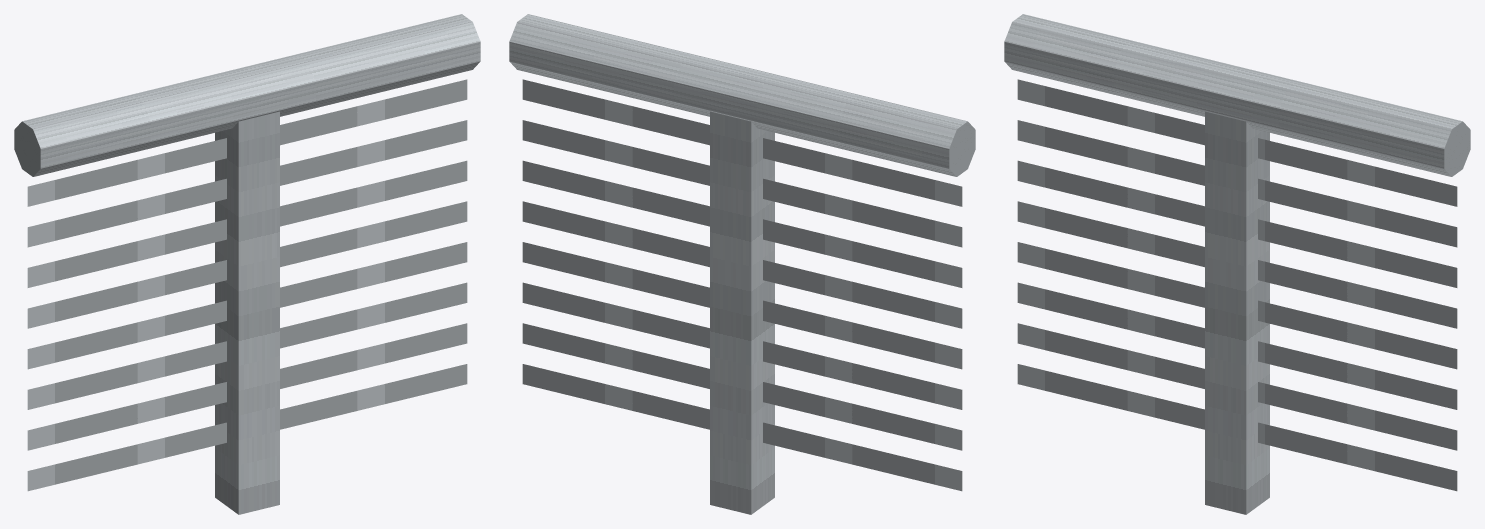
The model's file is level.obj.
3 renders of one model, left to right at view 1: azimuth 30°, elevation 25°; view 2: azimuth 150°, elevation 25°; view 3: azimuth 330°, elevation 25°, orthographic.
Visible parts, largest first — view 1: railing_cable_stainless_level; view 2: railing_cable_stainless_level; view 3: railing_cable_stainless_level.
Boxes of the visible parts, <box> form: railing_cable_stainless_level: <box>14,14,480,514</box>; railing_cable_stainless_level: <box>509,14,975,514</box>; railing_cable_stainless_level: <box>1004,14,1470,514</box>.
Size of the model in its own units: 1 by 0.9332 by 0.1039.
